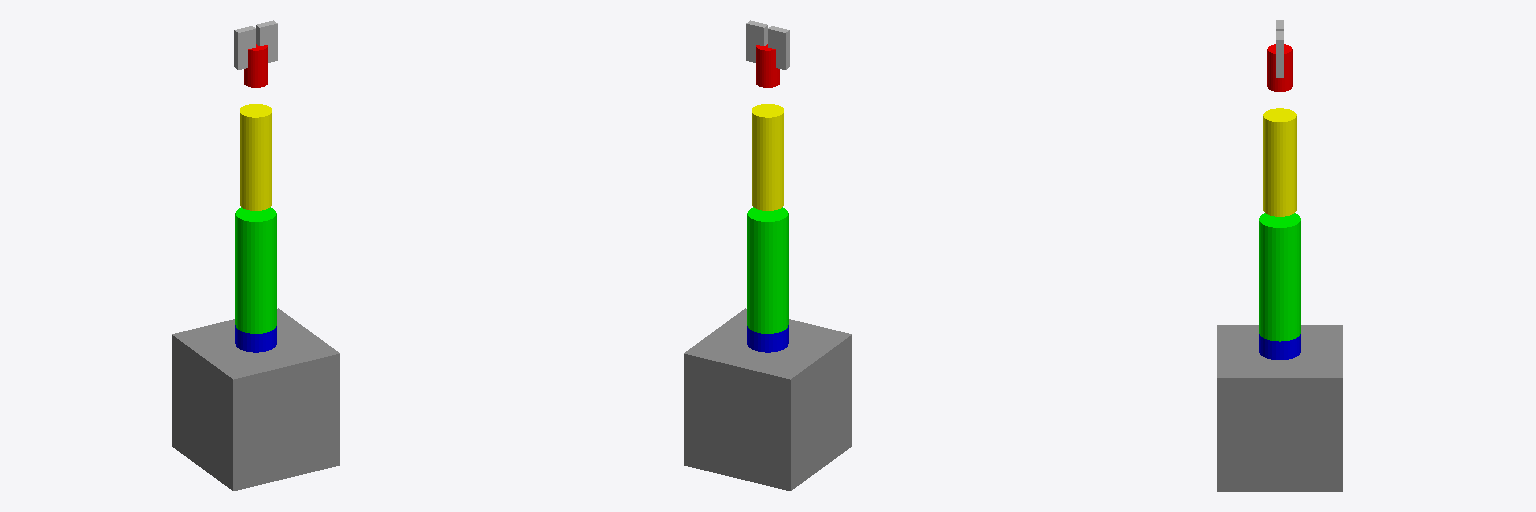
URDF robot description (simple_claw_robot):
<?xml version="1.0"?>
<robot name="simple_claw_robot">

  <!-- Base Link -->
  <link name="base_link">
    <visual>
      <geometry>
        <box size="0.3 0.3 .3"/>
      </geometry>
      <material name="gray">
        <color rgba="0.6 0.6 0.6 1.0"/>
      </material>
    </visual>
  </link>

  <!-- Arm Segment 1 -->
  <link name="arm_link1">
    <visual>
      <geometry>
        <cylinder radius="0.05" length="0.3"/>
      </geometry>
      <material name="blue">
        <color rgba="0.0 0.0 1.0 1.0"/>
      </material>
    </visual>
  </link>

  <joint name="joint1" type="revolute">
    <parent link="base_link"/>
    <child link="arm_link1"/>
    <origin xyz="0 0 0.05" rpy="0 0 0"/>
    <axis xyz="0 0 1"/>
    <limit lower="-1.57" upper="1.57" effort="1.0" velocity="1.0"/>
  </joint>

  <!-- Arm Segment 2 -->
  <link name="arm_link2">
    <visual>
      <geometry>
        <cylinder radius="0.05" length="0.3"/>
      </geometry>
      <material name="green">
        <color rgba="0.0 1.0 0.0 1.0"/>
      </material>
    </visual>
  </link>

  <joint name="joint2" type="revolute">
    <parent link="arm_link1"/>
    <child link="arm_link2"/>
    <origin xyz="0 0 0.3" rpy="0 0 0"/>
    <axis xyz="0 1 0"/>
    <limit lower="-1.57" upper="1.57" effort="1.0" velocity="1.0"/>
  </joint>

  <!-- Arm Segment 3 -->
  <link name="arm_link3">
    <visual>
      <geometry>
        <cylinder radius="0.04" length="0.25"/>
      </geometry>
      <material name="yellow">
        <color rgba="1.0 1.0 0.0 1.0"/>
      </material>
    </visual>
  </link>

  <joint name="joint3" type="revolute">
    <parent link="arm_link2"/>
    <child link="arm_link3"/>
    <origin xyz="0 0 0.3" rpy="0 0 0"/>
    <axis xyz="0 1 0"/>
    <limit lower="-1.57" upper="1.57" effort="1.0" velocity="1.0"/>
  </joint>

  <!-- Claw Base Link -->
  <link name="claw_base">
    <visual>
      <geometry>
        <cylinder radius="0.03" length="0.1"/>
      </geometry>
      <material name="red">
        <color rgba="1.0 0.0 0.0 1.0"/>
      </material>
    </visual>
  </link>

  <joint name="joint4" type="revolute">
    <parent link="arm_link3"/>
    <child link="claw_base"/>
    <origin xyz="0 0 0.25" rpy="0 0 0"/>
    <axis xyz="0 1 0"/>
    <limit lower="-1.57" upper="1.57" effort="1.0" velocity="1.0"/>
  </joint>

  <!-- Claw Finger 1 -->
  <link name="claw_finger1">
    <visual>
      <geometry>
        <box size="0.05 0.02 0.1"/>
      </geometry>
      <material name="silver">
        <color rgba="0.75 0.75 0.75 1.0"/>
      </material>
    </visual>
  </link>

  <joint name="claw_joint1" type="revolute">
    <parent link="claw_base"/>
    <child link="claw_finger1"/>
    <origin xyz="0.03 0 0.05" rpy="0 0 0"/>
    <axis xyz="0 1 0"/>
    <limit lower="0" upper="1.57" effort="1.0" velocity="1.0"/>
  </joint>

  <!-- Claw Finger 2 -->
  <link name="claw_finger2">
    <visual>
      <geometry>
        <box size="0.05 0.02 0.1"/>
      </geometry>
      <material name="silver">
        <color rgba="0.75 0.75 0.75 1.0"/>
      </material>
    </visual>
  </link>

  <joint name="claw_joint2" type="revolute">
    <parent link="claw_base"/>
    <child link="claw_finger2"/>
    <origin xyz="-0.03 0 0.05" rpy="0 0 0"/>
    <axis xyz="0 1 0"/>
    <limit lower="-1.57" upper="0" effort="1.0" velocity="1.0"/>
  </joint>

</robot>

--- Facts derived from the render (not from the file) ---
Views: 3 orthographic renders of the robot side by side, from view 1: azimuth 30°, elevation 25°; view 2: azimuth 150°, elevation 25°; view 3: azimuth 270°, elevation 25°.
Robot: simple_claw_robot — 7 links, 6 joints (6 revolute); root link base_link; default pose: every joint at zero.
Links seen in each view (by area): view 1: base_link, arm_link2, arm_link3, claw_base, arm_link1, claw_finger2, claw_finger1; view 2: base_link, arm_link2, arm_link3, claw_base, arm_link1, claw_finger2, claw_finger1; view 3: base_link, arm_link2, arm_link3, claw_base, arm_link1.
Link boxes in pixels (<box>): base_link: <box>172,308,339,490</box>; arm_link2: <box>235,207,276,333</box>; arm_link3: <box>240,104,271,210</box>; claw_base: <box>244,44,267,87</box>; arm_link1: <box>235,325,276,352</box>; claw_finger2: <box>234,26,255,69</box>; claw_finger1: <box>256,20,277,62</box>; base_link: <box>684,308,851,490</box>; arm_link2: <box>747,207,788,333</box>; arm_link3: <box>752,104,783,210</box>; claw_base: <box>756,44,779,87</box>; arm_link1: <box>747,325,788,352</box>; claw_finger2: <box>768,26,789,69</box>; claw_finger1: <box>746,20,767,62</box>; base_link: <box>1217,325,1342,491</box>; arm_link2: <box>1259,213,1300,341</box>; arm_link3: <box>1263,108,1296,216</box>; claw_base: <box>1267,44,1292,91</box>; arm_link1: <box>1259,334,1300,359</box>.
Bounding box of the posed robot: 0.3 × 0.3 × 1.15 m (x, y, z).
Geometry: primitives only (box / cylinder / sphere), no mesh files.